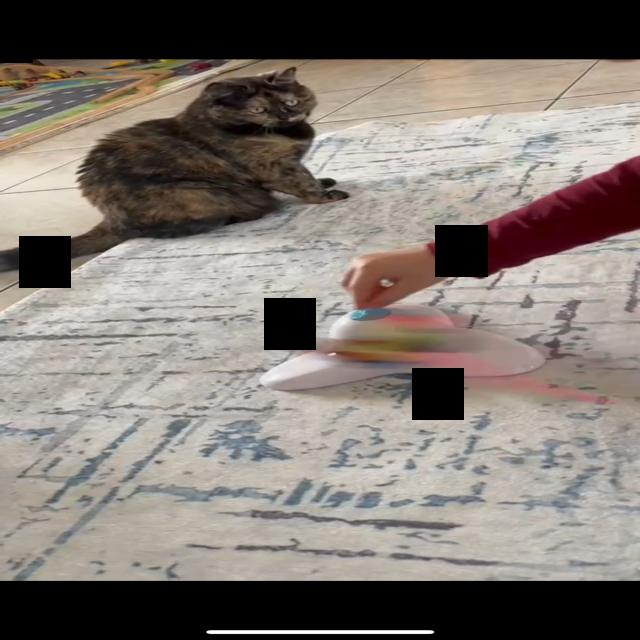authorized: (1, 65, 350, 272)
